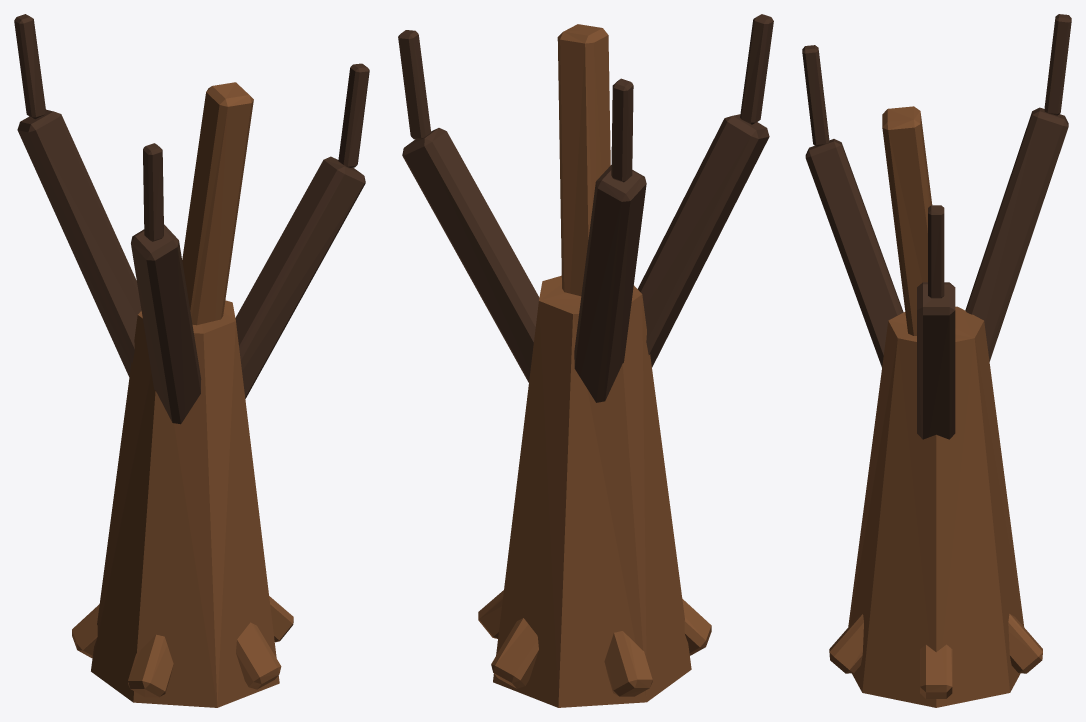
The model's file is tree_dead_a.glb.
3 views of the same model, side by side, from view 1: azimuth 30°, elevation 25°; view 2: azimuth 150°, elevation 25°; view 3: azimuth 270°, elevation 25° (orthographic). The views are drawn at different scales.
Parts seen in each view (by area): view 1: trunk, canopy; view 2: trunk, canopy; view 3: trunk, canopy.
Boxes of the visible parts, box(x1,y1,x2,y2) form: trunk: box(72, 300, 293, 707); canopy: box(14, 14, 369, 424); trunk: box(478, 275, 711, 707); canopy: box(398, 14, 773, 402); trunk: box(829, 306, 1042, 707); canopy: box(802, 14, 1071, 439).
Bounding box in the file's own units: 1.09 × 2.26 × 0.9113.
